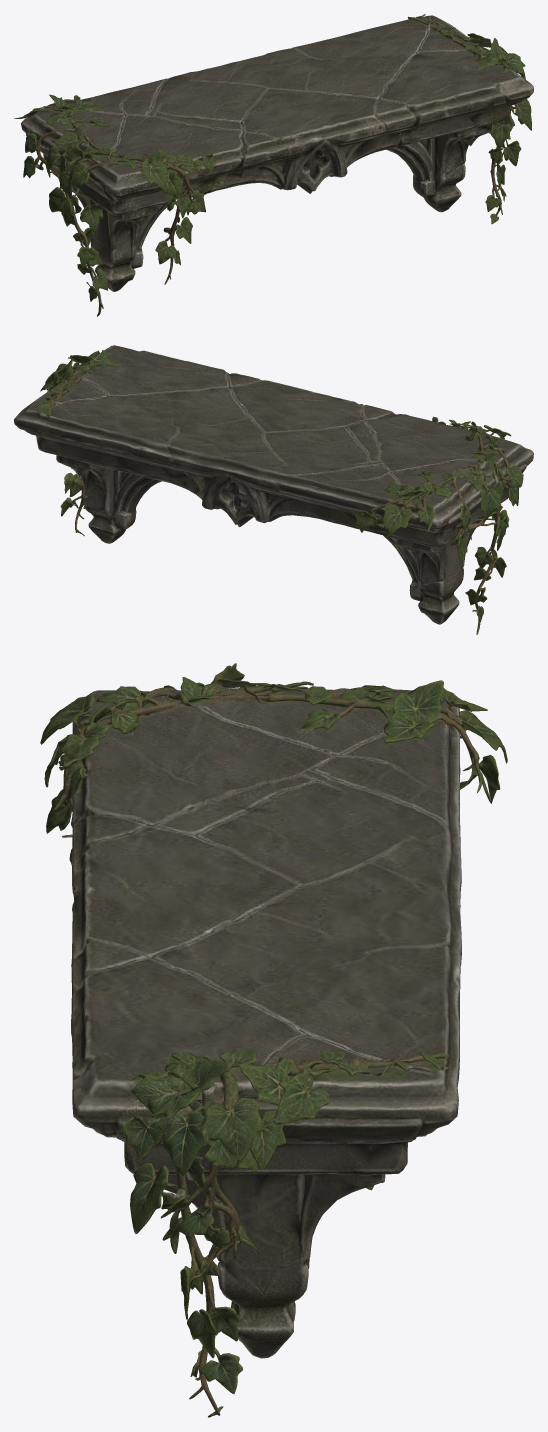
Rendered from gothic-shelf.glb.
The picture shows the model from 3 angles, top to bottom: view 1: azimuth 30°, elevation 25°; view 2: azimuth 150°, elevation 25°; view 3: azimuth 270°, elevation 25°; orthographic projection. The views are drawn at different scales.
Bounding box in the file's own units: 1.9 × 0.719 × 0.8394.
1 material, 1 textured.
